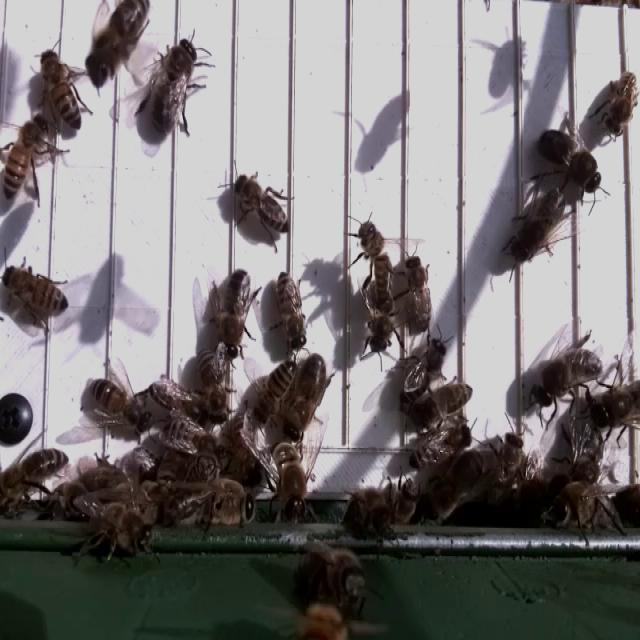Drone: (148, 31, 200, 140), (531, 339, 606, 409), (506, 181, 567, 266), (535, 126, 604, 196), (283, 347, 328, 444), (219, 264, 253, 363)
Worker: (0, 115, 50, 207), (394, 332, 448, 411), (231, 171, 294, 238), (39, 47, 85, 136), (85, 377, 153, 436), (0, 262, 70, 318), (357, 217, 395, 309), (250, 356, 298, 426), (413, 379, 474, 432), (274, 270, 308, 352), (600, 70, 640, 138), (195, 346, 227, 426), (402, 253, 432, 334)
